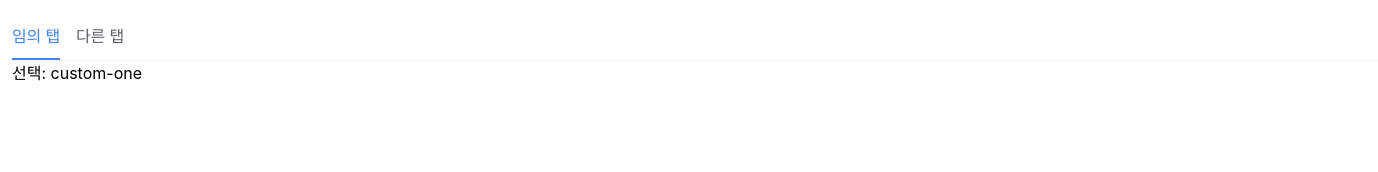
Test case: 기존 Tabs 공개 API › 임의의 탭을 클릭하고 내용을 유지한다
Click the tab "다른 탭". click: (100, 36)
box: [76,12,124,60]
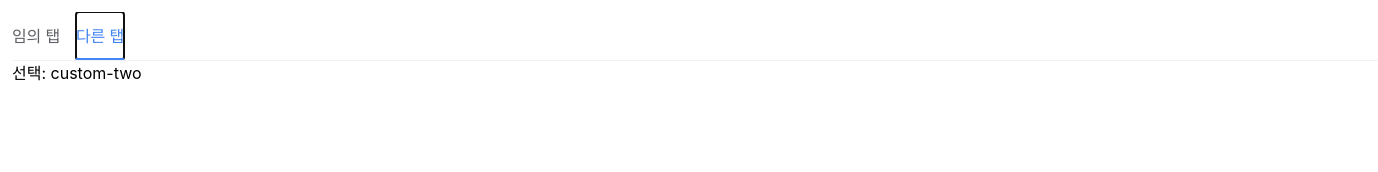
Expected: the panel reads "선택: custom-two", [12,63,142,83]
